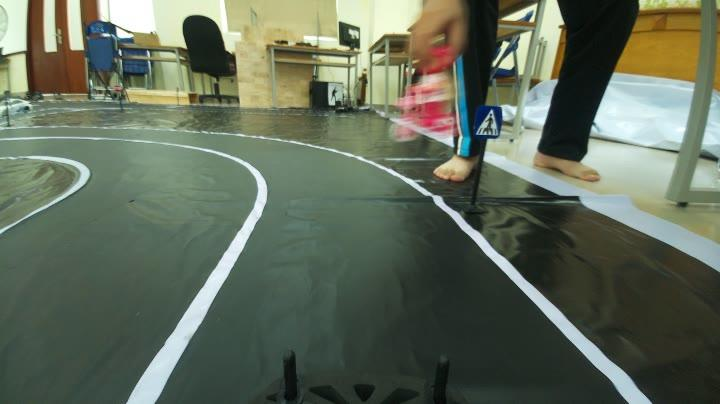crosswalk: (472, 103, 504, 138)
